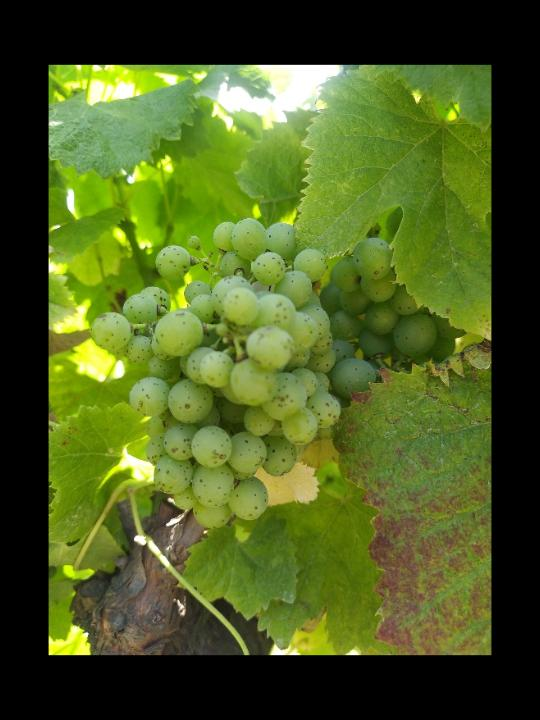grape: (90, 215, 382, 532)
